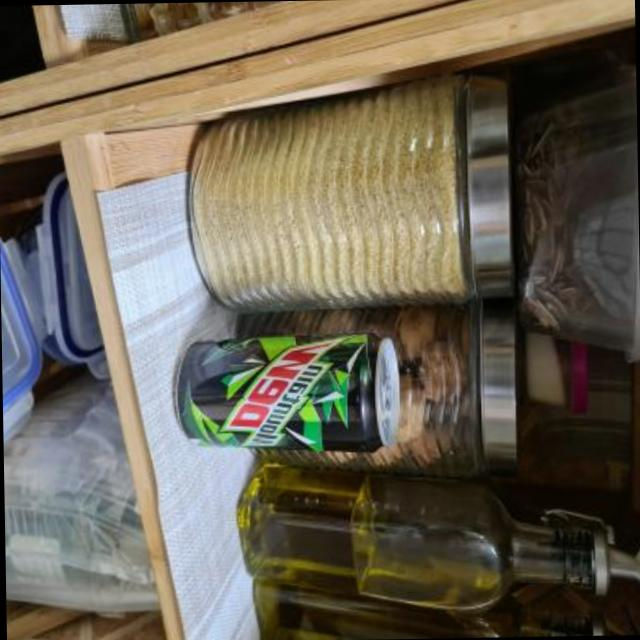metal: (175, 334, 398, 459)
